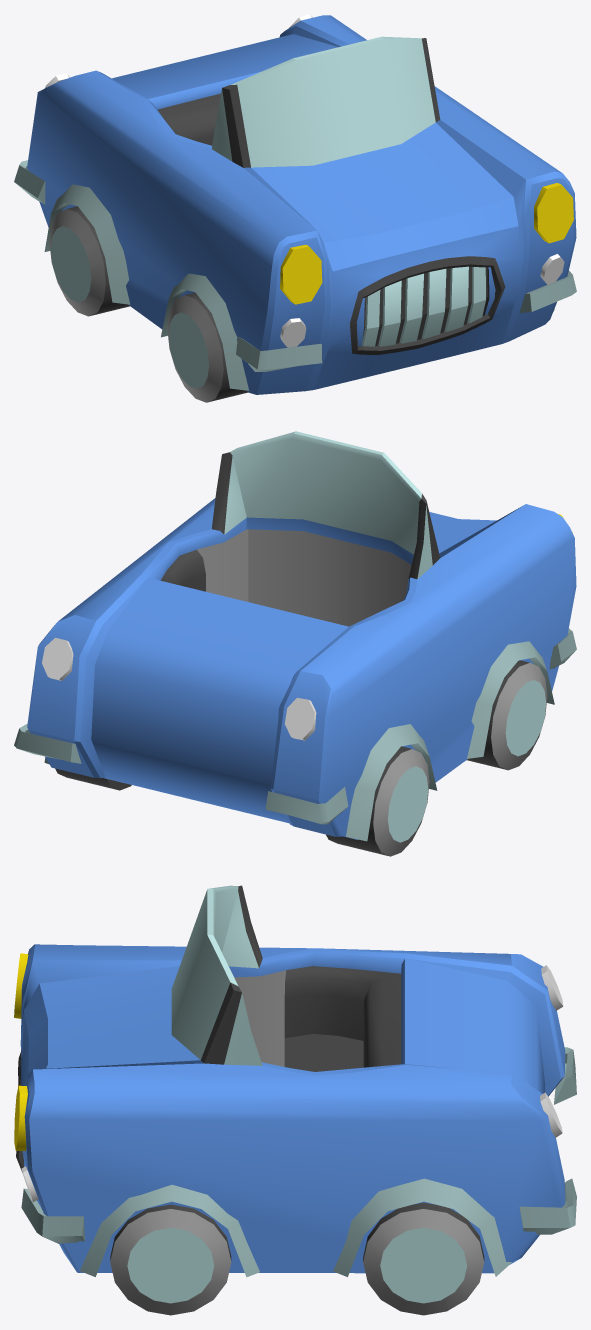
The model's file is Cart_10.fbx.
3 views of the same model, one above another, from view 1: azimuth 30°, elevation 25°; view 2: azimuth 150°, elevation 25°; view 3: azimuth 270°, elevation 25° (orthographic). The views are drawn at different scales.
Parts seen in each view (by area): view 1: Cube.012; view 2: Cube.012; view 3: Cube.012.
Part boxes in pixels (left/top/right/bottom): Cube.012: left=14, top=14, right=576, bottom=402; Cube.012: left=14, top=431, right=576, bottom=856; Cube.012: left=14, top=885, right=576, bottom=1315.
Bounding box in the file's own units: 201 × 169 × 271.
